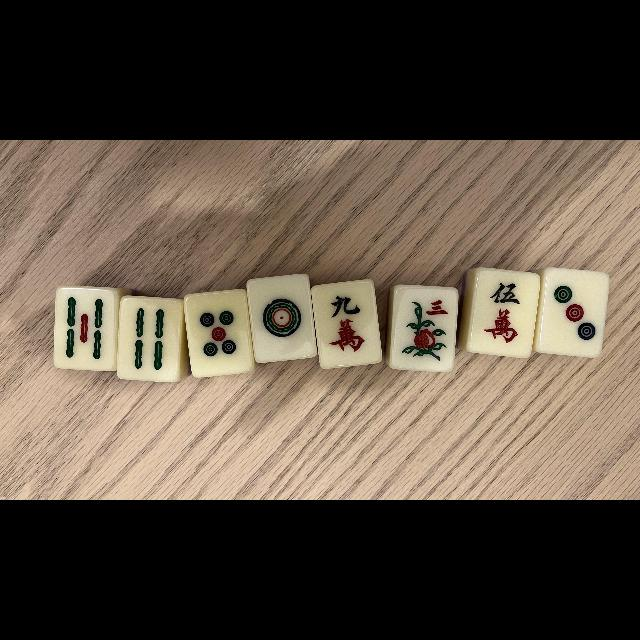b4: (119, 298, 179, 379)
b5: (56, 287, 116, 368)
c5: (472, 270, 532, 352)
c9: (316, 282, 380, 364)
d1: (250, 278, 312, 358)
d3: (544, 270, 602, 352)
d5: (186, 294, 252, 374)
s3-s: (394, 286, 454, 369)
